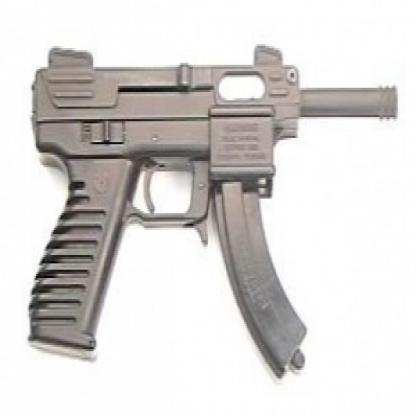Guns: (18, 38, 399, 380)
